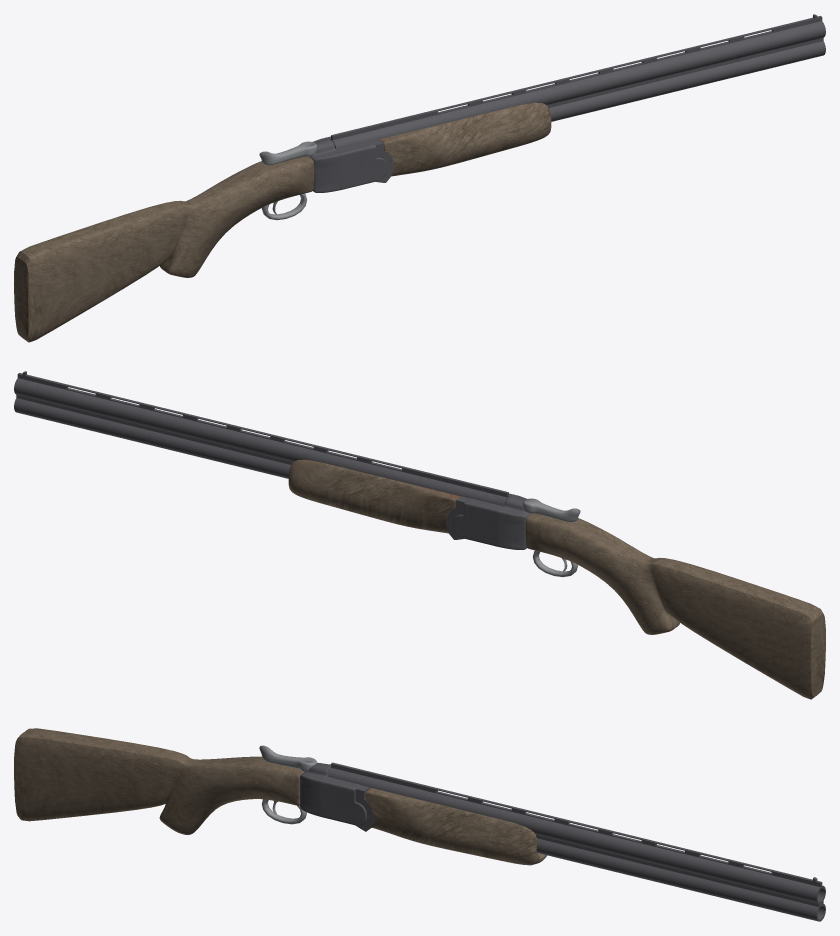
Rendered from OverUnderShotGunComplete.fbx.
The picture shows the model from 3 angles, top to bottom: view 1: azimuth 30°, elevation 25°; view 2: azimuth 150°, elevation 25°; view 3: azimuth 330°, elevation 25°; orthographic projection.
Visible parts, largest first — view 1: ShotgunTriggerGuard.005, ShotgunTriggerGuard.001, ShotgunTriggerGuard.002, ShotgunTriggerGuard.004, ShotgunTriggerGuard.006; view 2: ShotgunTriggerGuard.005, ShotgunTriggerGuard.001, ShotgunTriggerGuard.002, ShotgunTriggerGuard.004, ShotgunTriggerGuard.006; view 3: ShotgunTriggerGuard.005, ShotgunTriggerGuard.001, ShotgunTriggerGuard.002, ShotgunTriggerGuard.004, ShotgunTriggerGuard.006, ShotgunTriggerGuard.003, ShotgunTriggerGuard.
Boxes of the visible parts, x1,y1,x2,y2 form: ShotgunTriggerGuard.005: (14,156,314,342); ShotgunTriggerGuard.001: (330,14,825,149); ShotgunTriggerGuard.002: (379,102,551,176); ShotgunTriggerGuard.004: (309,136,387,192); ShotgunTriggerGuard.006: (259,141,317,165); ShotgunTriggerGuard.005: (525,513,825,699); ShotgunTriggerGuard.001: (14,371,509,506); ShotgunTriggerGuard.002: (288,459,460,533); ShotgunTriggerGuard.004: (452,493,530,549); ShotgunTriggerGuard.006: (522,498,580,522); ShotgunTriggerGuard.005: (14,728,303,834); ShotgunTriggerGuard.001: (327,762,825,921); ShotgunTriggerGuard.002: (365,788,547,865); ShotgunTriggerGuard.004: (300,762,366,825); ShotgunTriggerGuard.006: (259,745,316,771); ShotgunTriggerGuard.003: (355,785,374,831); ShotgunTriggerGuard: (261,799,306,824).
Size of the model in its own units: 101 by 15.95 by 4.69.
Materials: 8 (8 with a texture image).
